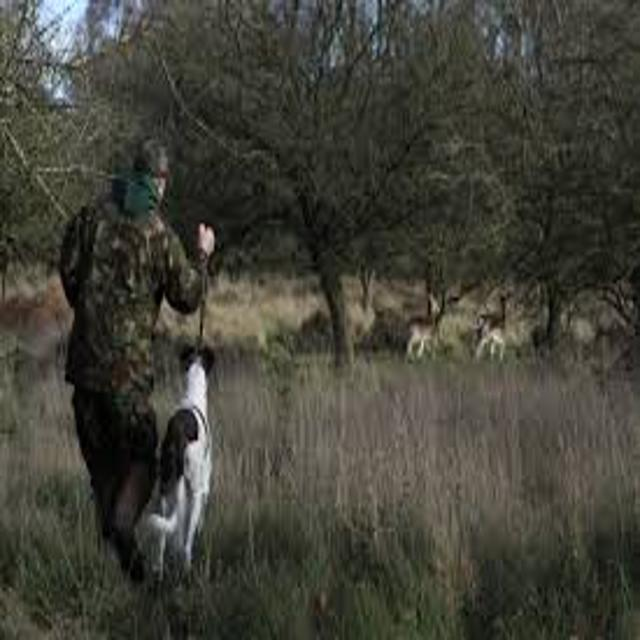deer: (375, 278, 469, 375), (462, 280, 548, 384)
dog: (108, 331, 269, 593)
poacher: (30, 133, 266, 600)
